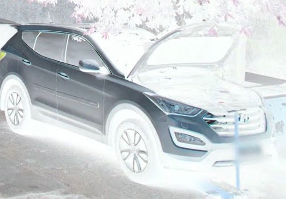car: (1, 25, 272, 181)
